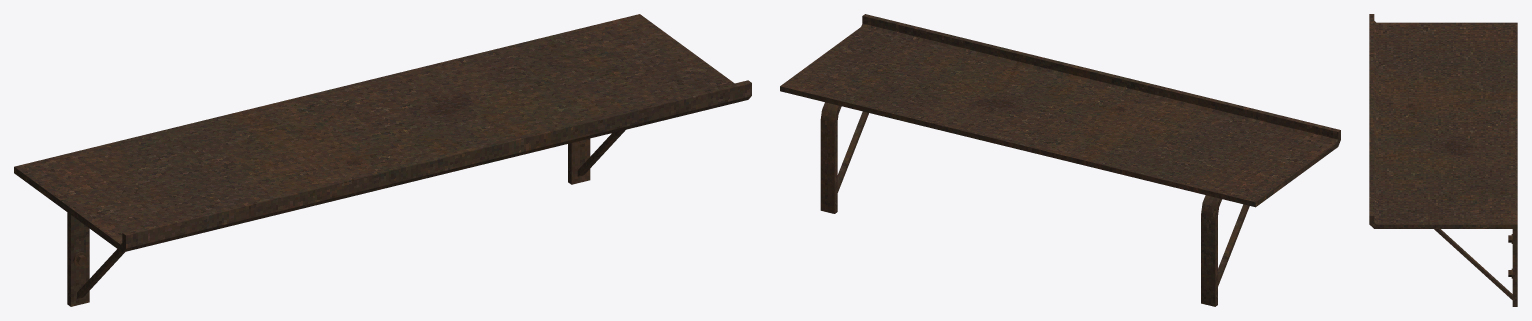
File: hanging_shelf_mx_1.glb
The picture shows the model from 3 angles, left to right: view 1: azimuth 30°, elevation 25°; view 2: azimuth 150°, elevation 25°; view 3: azimuth 270°, elevation 25°; orthographic projection. The views are drawn at different scales.
Visible parts, largest first — view 1: hanging_shelf_mx_1; view 2: hanging_shelf_mx_1; view 3: hanging_shelf_mx_1.
Part boxes in pixels (x1,y1,x2,y2): hanging_shelf_mx_1: (14,14,751,306); hanging_shelf_mx_1: (780,14,1340,306); hanging_shelf_mx_1: (1369,14,1517,306).
Size of the model in its own units: 1 by 0.25 by 0.31.
Materials: 1 (1 with a texture image).
